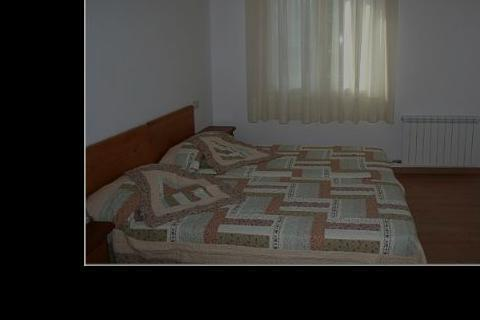Armario: (398, 110, 480, 175)
